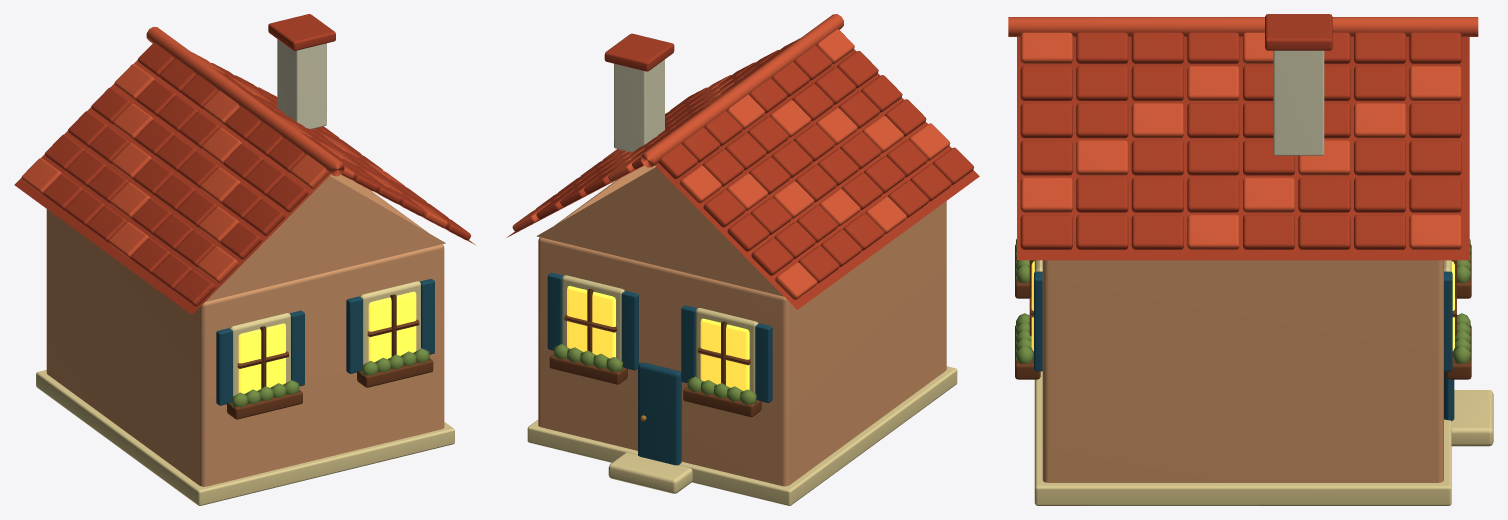
File: house_0.glb
3 views of the same model, side by side, from view 1: azimuth 30°, elevation 25°; view 2: azimuth 150°, elevation 25°; view 3: azimuth 270°, elevation 25° (orthographic). The views are drawn at different scales.
Parts seen in each view (by area): view 1: HouseMesh; view 2: HouseMesh; view 3: HouseMesh.
Part boxes in pixels (x1=…): HouseMesh: x1=14, y1=14, x2=475, y2=505; HouseMesh: x1=506, y1=14, x2=979, y2=505; HouseMesh: x1=1008, y1=14, x2=1493, y2=505.
Bounding box in the file's own units: 4.9 × 5.81 × 5.68.
